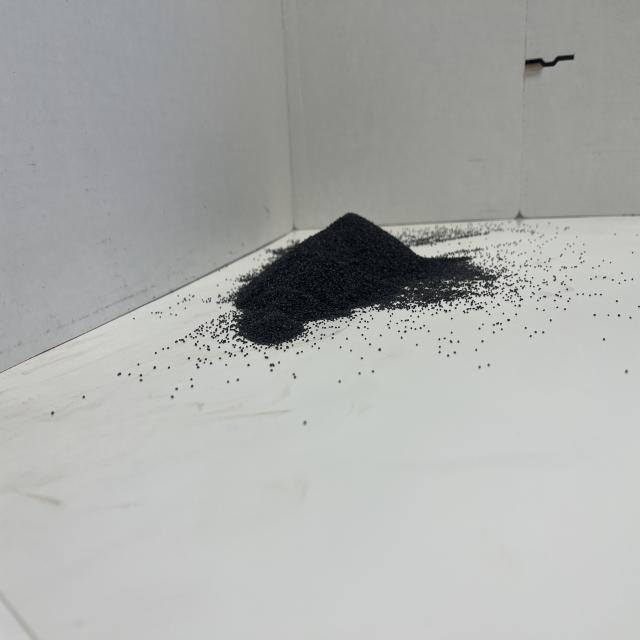Poppy Seeds: (219, 197, 515, 362)
